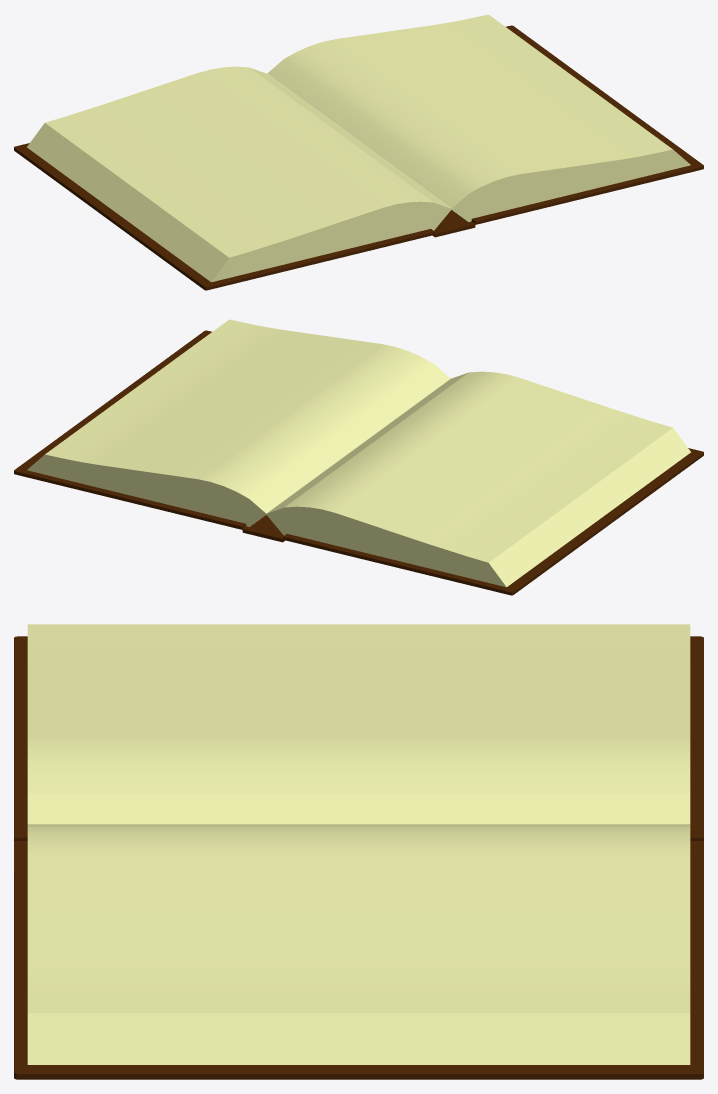
The model's file is book1.glb.
3 renders of one model, top to bottom at view 1: azimuth 30°, elevation 25°; view 2: azimuth 150°, elevation 25°; view 3: azimuth 270°, elevation 25°, orthographic. The views are drawn at different scales.
Parts seen in each view (by area): view 1: Open Book; view 2: Open Book; view 3: Open Book.
Boxes of the visible parts, x1,y1,x2,y2 form: Open Book: (14, 14, 703, 290); Open Book: (14, 319, 703, 595); Open Book: (14, 624, 703, 1079).
Size of the model in its own units: 30 by 2.25 by 20.
